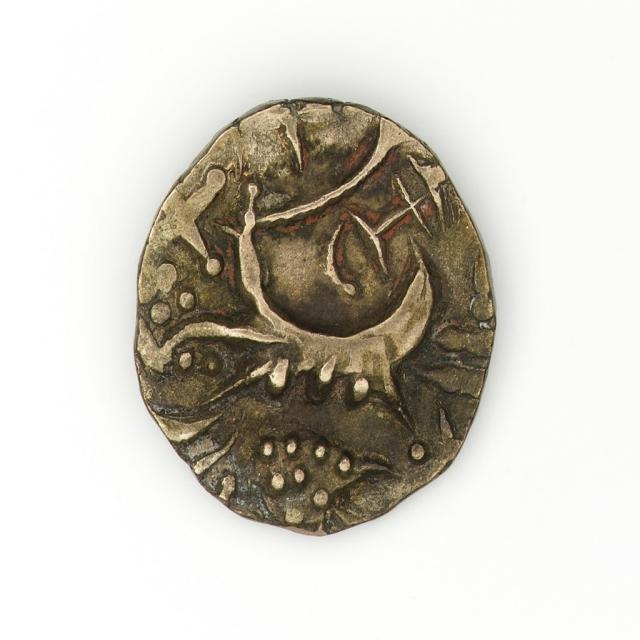Coin: (128, 93, 505, 543)
